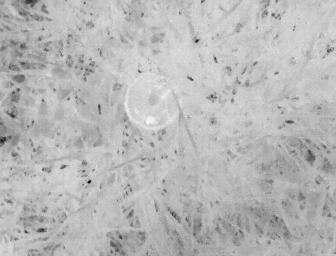landmine: (125, 73, 181, 129)
